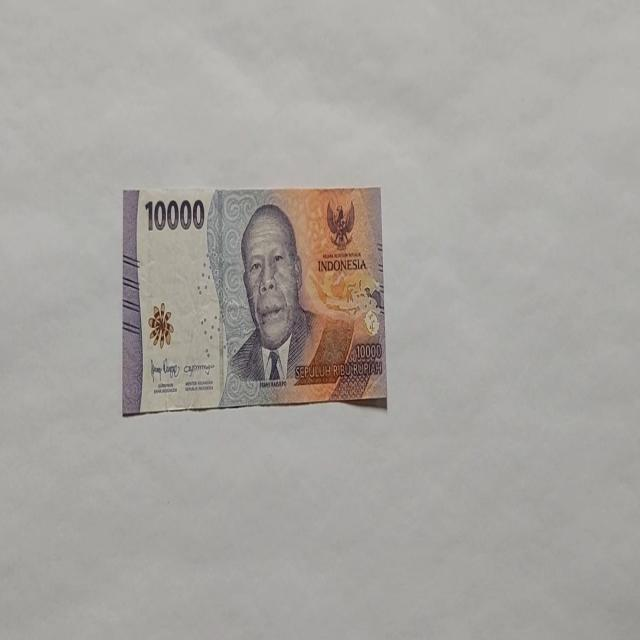sepuluh ribu rupiah: (121, 184, 388, 416), (215, 201, 352, 407)
